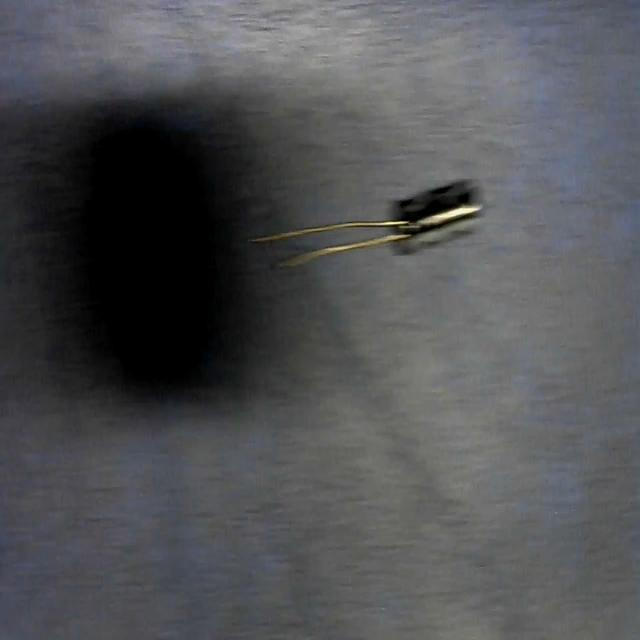capacitor: (246, 177, 484, 275)
